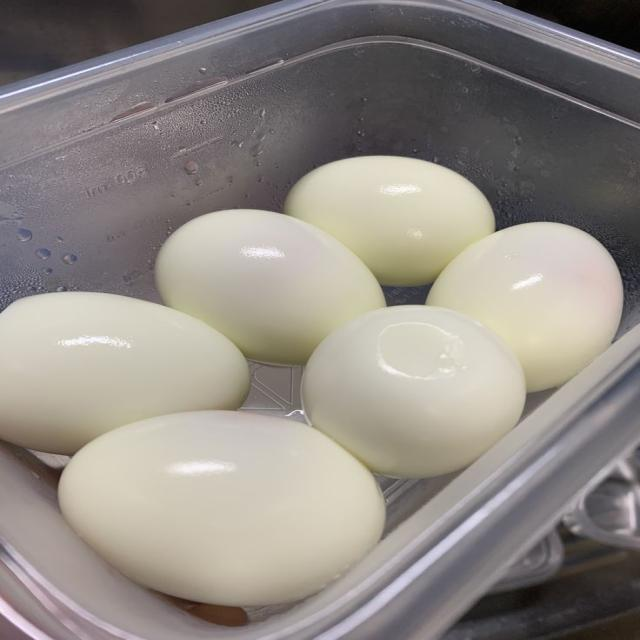egg boiled: (60, 412, 384, 606), (0, 293, 249, 454), (302, 306, 525, 477), (155, 210, 385, 364), (427, 222, 623, 391), (285, 156, 494, 285)
